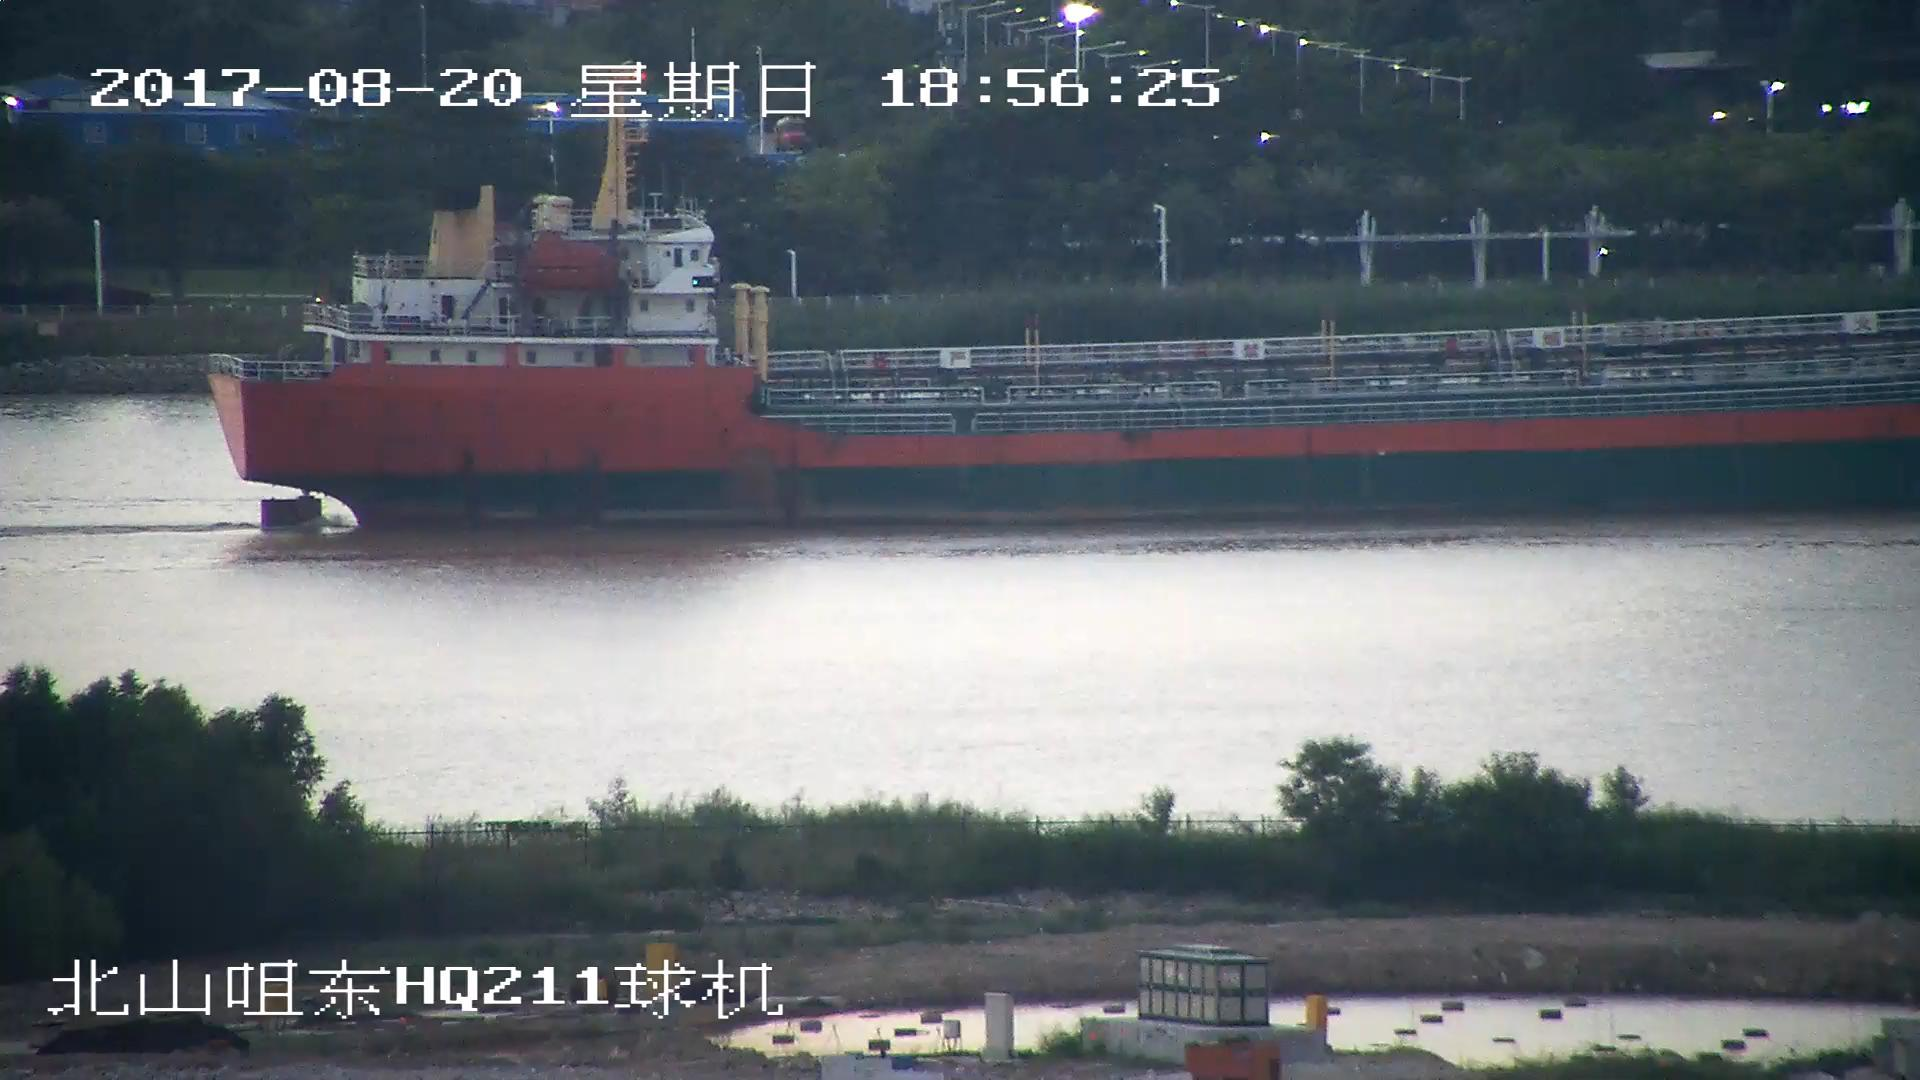Ship: (194, 111, 1920, 527)
